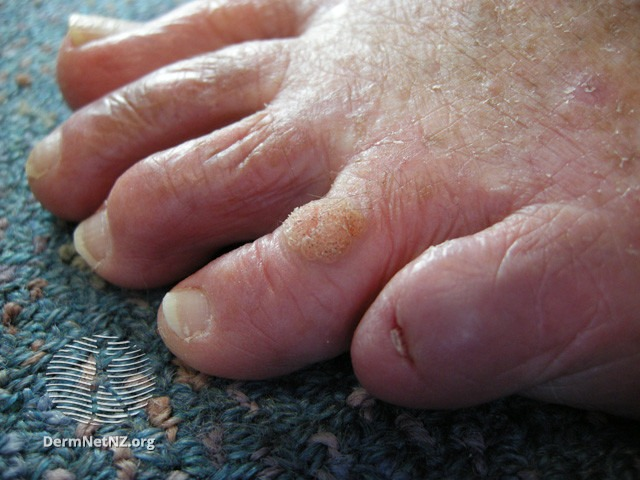Warts: (275, 190, 375, 271)
